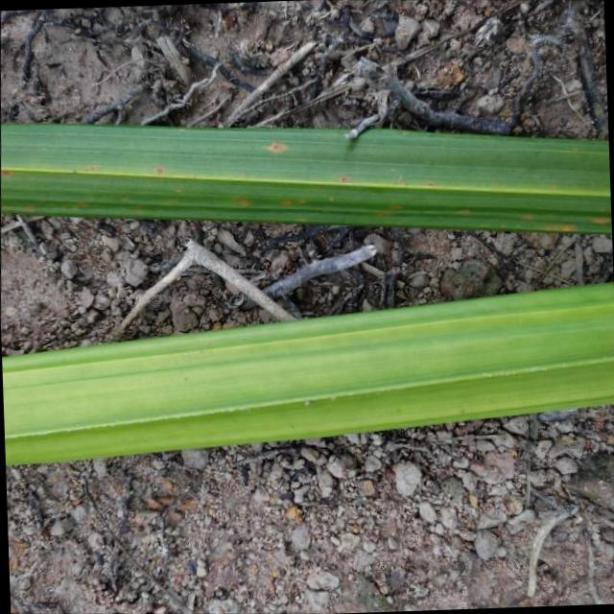nitrogen: (5, 280, 614, 465), (0, 118, 614, 237)
